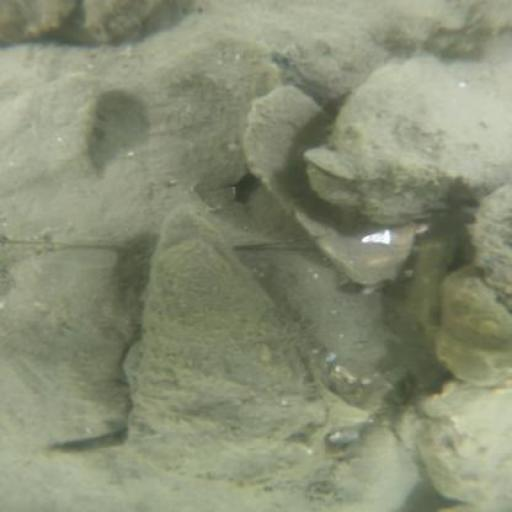Oyster-Closed: (327, 59, 510, 226), (7, 252, 134, 447), (169, 3, 384, 97), (416, 390, 512, 511), (305, 425, 414, 508), (465, 186, 512, 321), (83, 1, 167, 41), (16, 1, 77, 42)
Oyster-Open: (126, 225, 317, 477)
